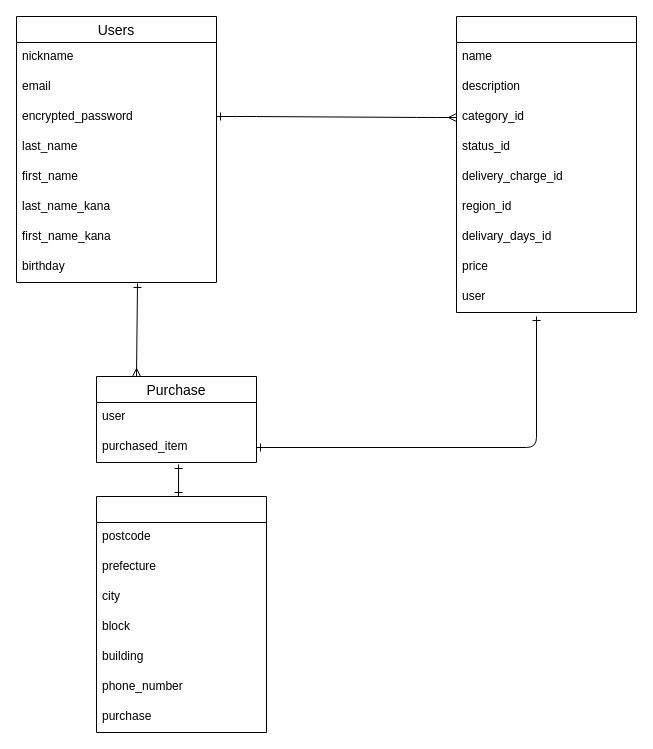
Image size: 653x749. Some labels were removed from this diagram. The shapes that lost their labels are listed below. From the top down, each one's box as (x1, y1, x2, y2) in pixels, then its label:
(456, 16, 636, 312): Items
(96, 496, 266, 732): Shipping_adress
